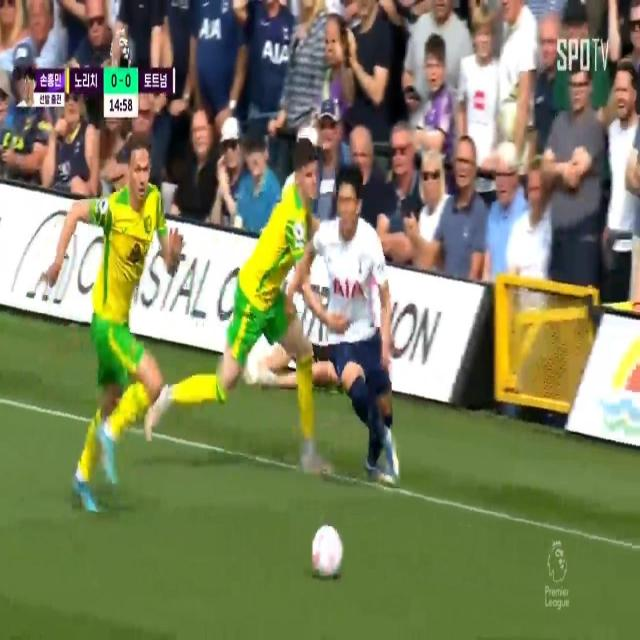ball: (301, 511, 351, 573)
player: (56, 132, 182, 526), (209, 141, 333, 435), (305, 168, 399, 464)
